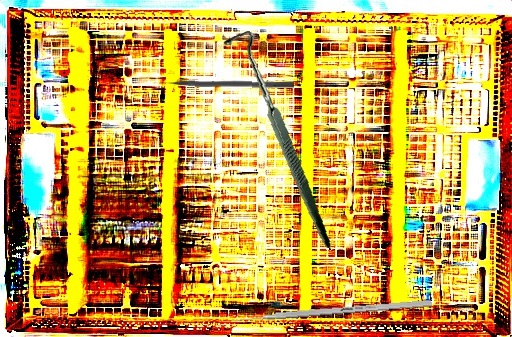Hook Surgical: (202, 28, 353, 249)
Pusher: (220, 298, 432, 326), (152, 77, 295, 89)
